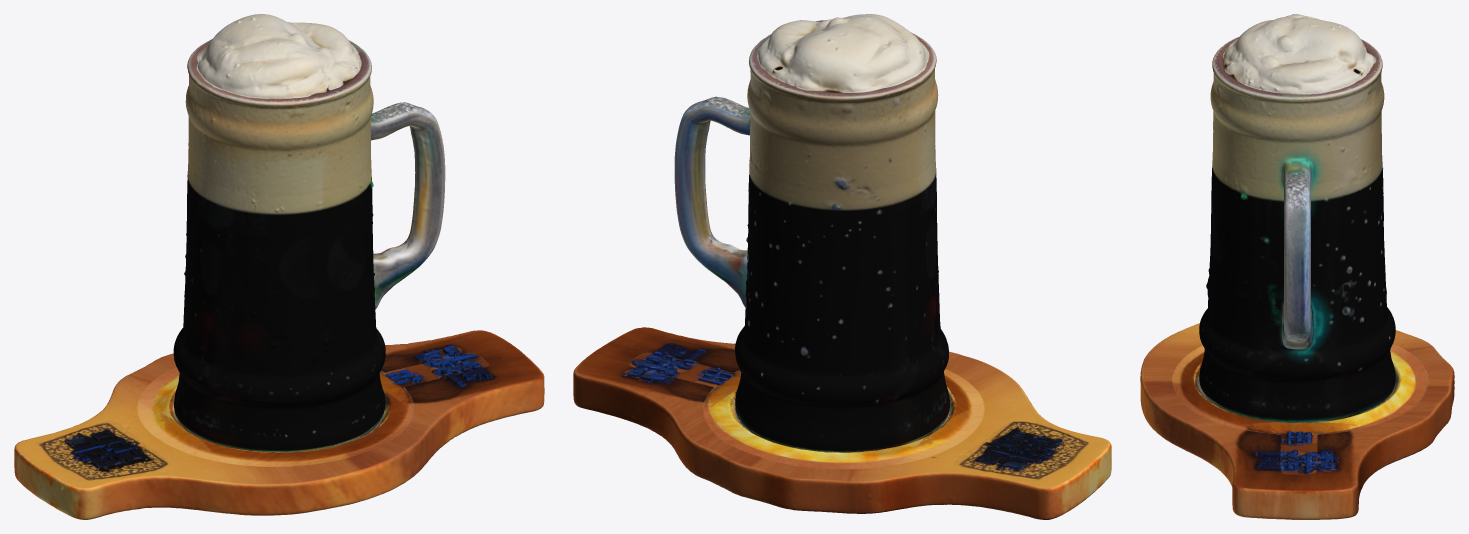
The model's file is pie.glb.
The picture shows the model from 3 angles, left to right: view 1: azimuth 30°, elevation 25°; view 2: azimuth 150°, elevation 25°; view 3: azimuth 270°, elevation 25°; orthographic projection. The views are drawn at different scales.
Bounding box in the file's own units: 1.9 × 1.55 × 1.15.
1 material, 1 textured.
